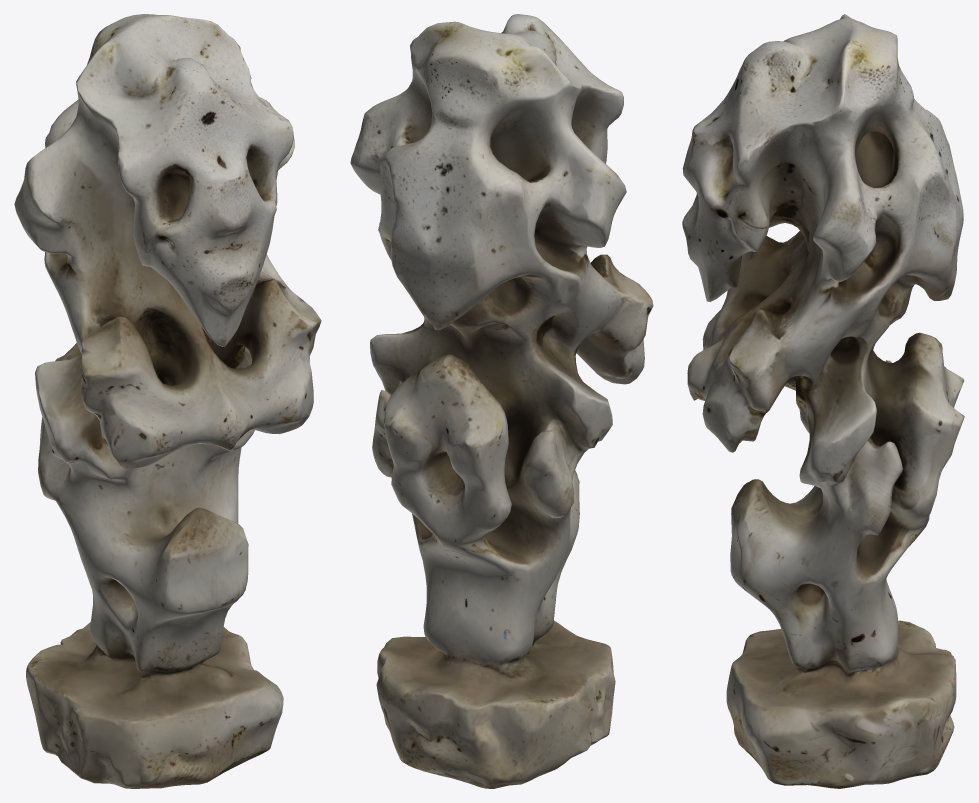
File: linglong.glb
The picture shows the model from 3 angles, left to right: view 1: azimuth 30°, elevation 25°; view 2: azimuth 150°, elevation 25°; view 3: azimuth 270°, elevation 25°; orthographic projection.
Visible parts, largest first — view 1: tripo_node_f703bcf7-bdc6-4c7d-b6f0-4e4a43ceba55; view 2: tripo_node_f703bcf7-bdc6-4c7d-b6f0-4e4a43ceba55; view 3: tripo_node_f703bcf7-bdc6-4c7d-b6f0-4e4a43ceba55.
Part boxes in pixels (bbox=[...]): tripo_node_f703bcf7-bdc6-4c7d-b6f0-4e4a43ceba55: bbox=[14, 14, 321, 788]; tripo_node_f703bcf7-bdc6-4c7d-b6f0-4e4a43ceba55: bbox=[350, 14, 653, 788]; tripo_node_f703bcf7-bdc6-4c7d-b6f0-4e4a43ceba55: bbox=[682, 14, 964, 788].
Size of the model in its own units: 0.3718 by 0.9999 by 0.3516.
Materials: 1 (1 with a texture image).
